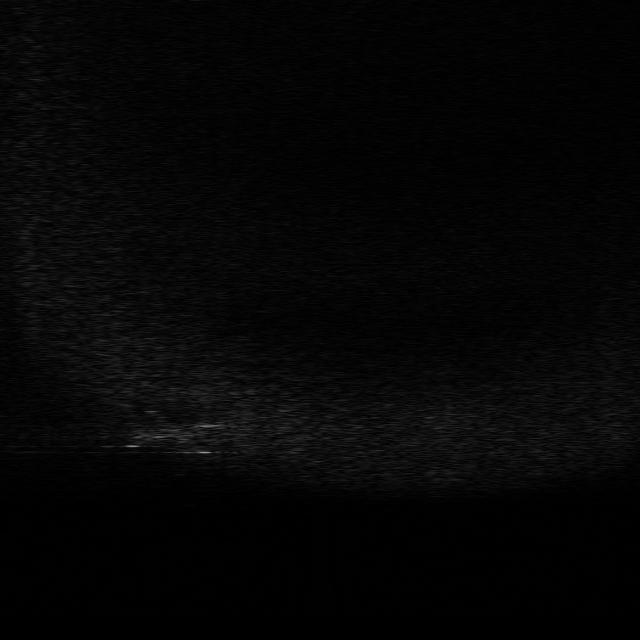plane: (120, 410, 220, 456)
